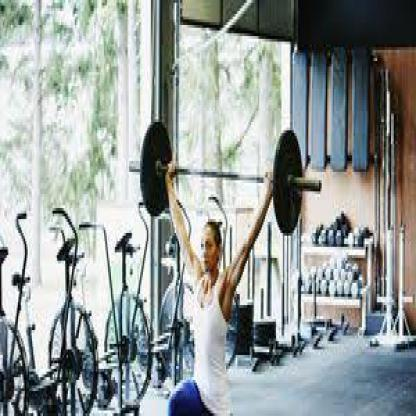Barbell: (316, 170, 327, 201)
